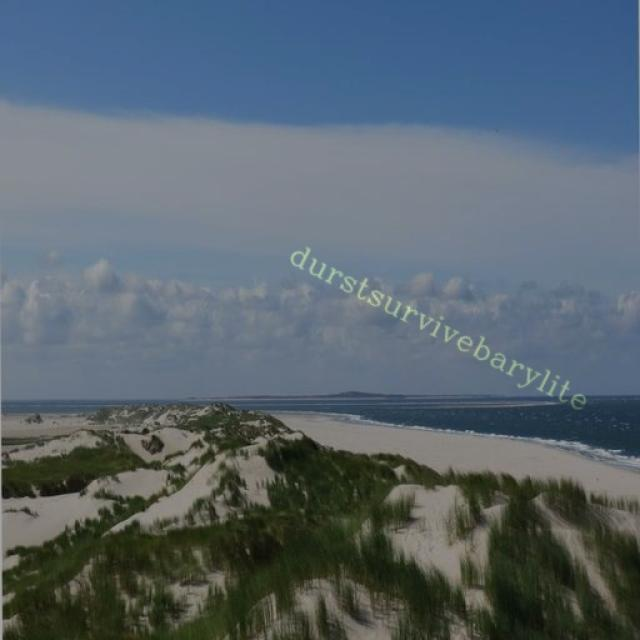watermark: (278, 238, 604, 417)
